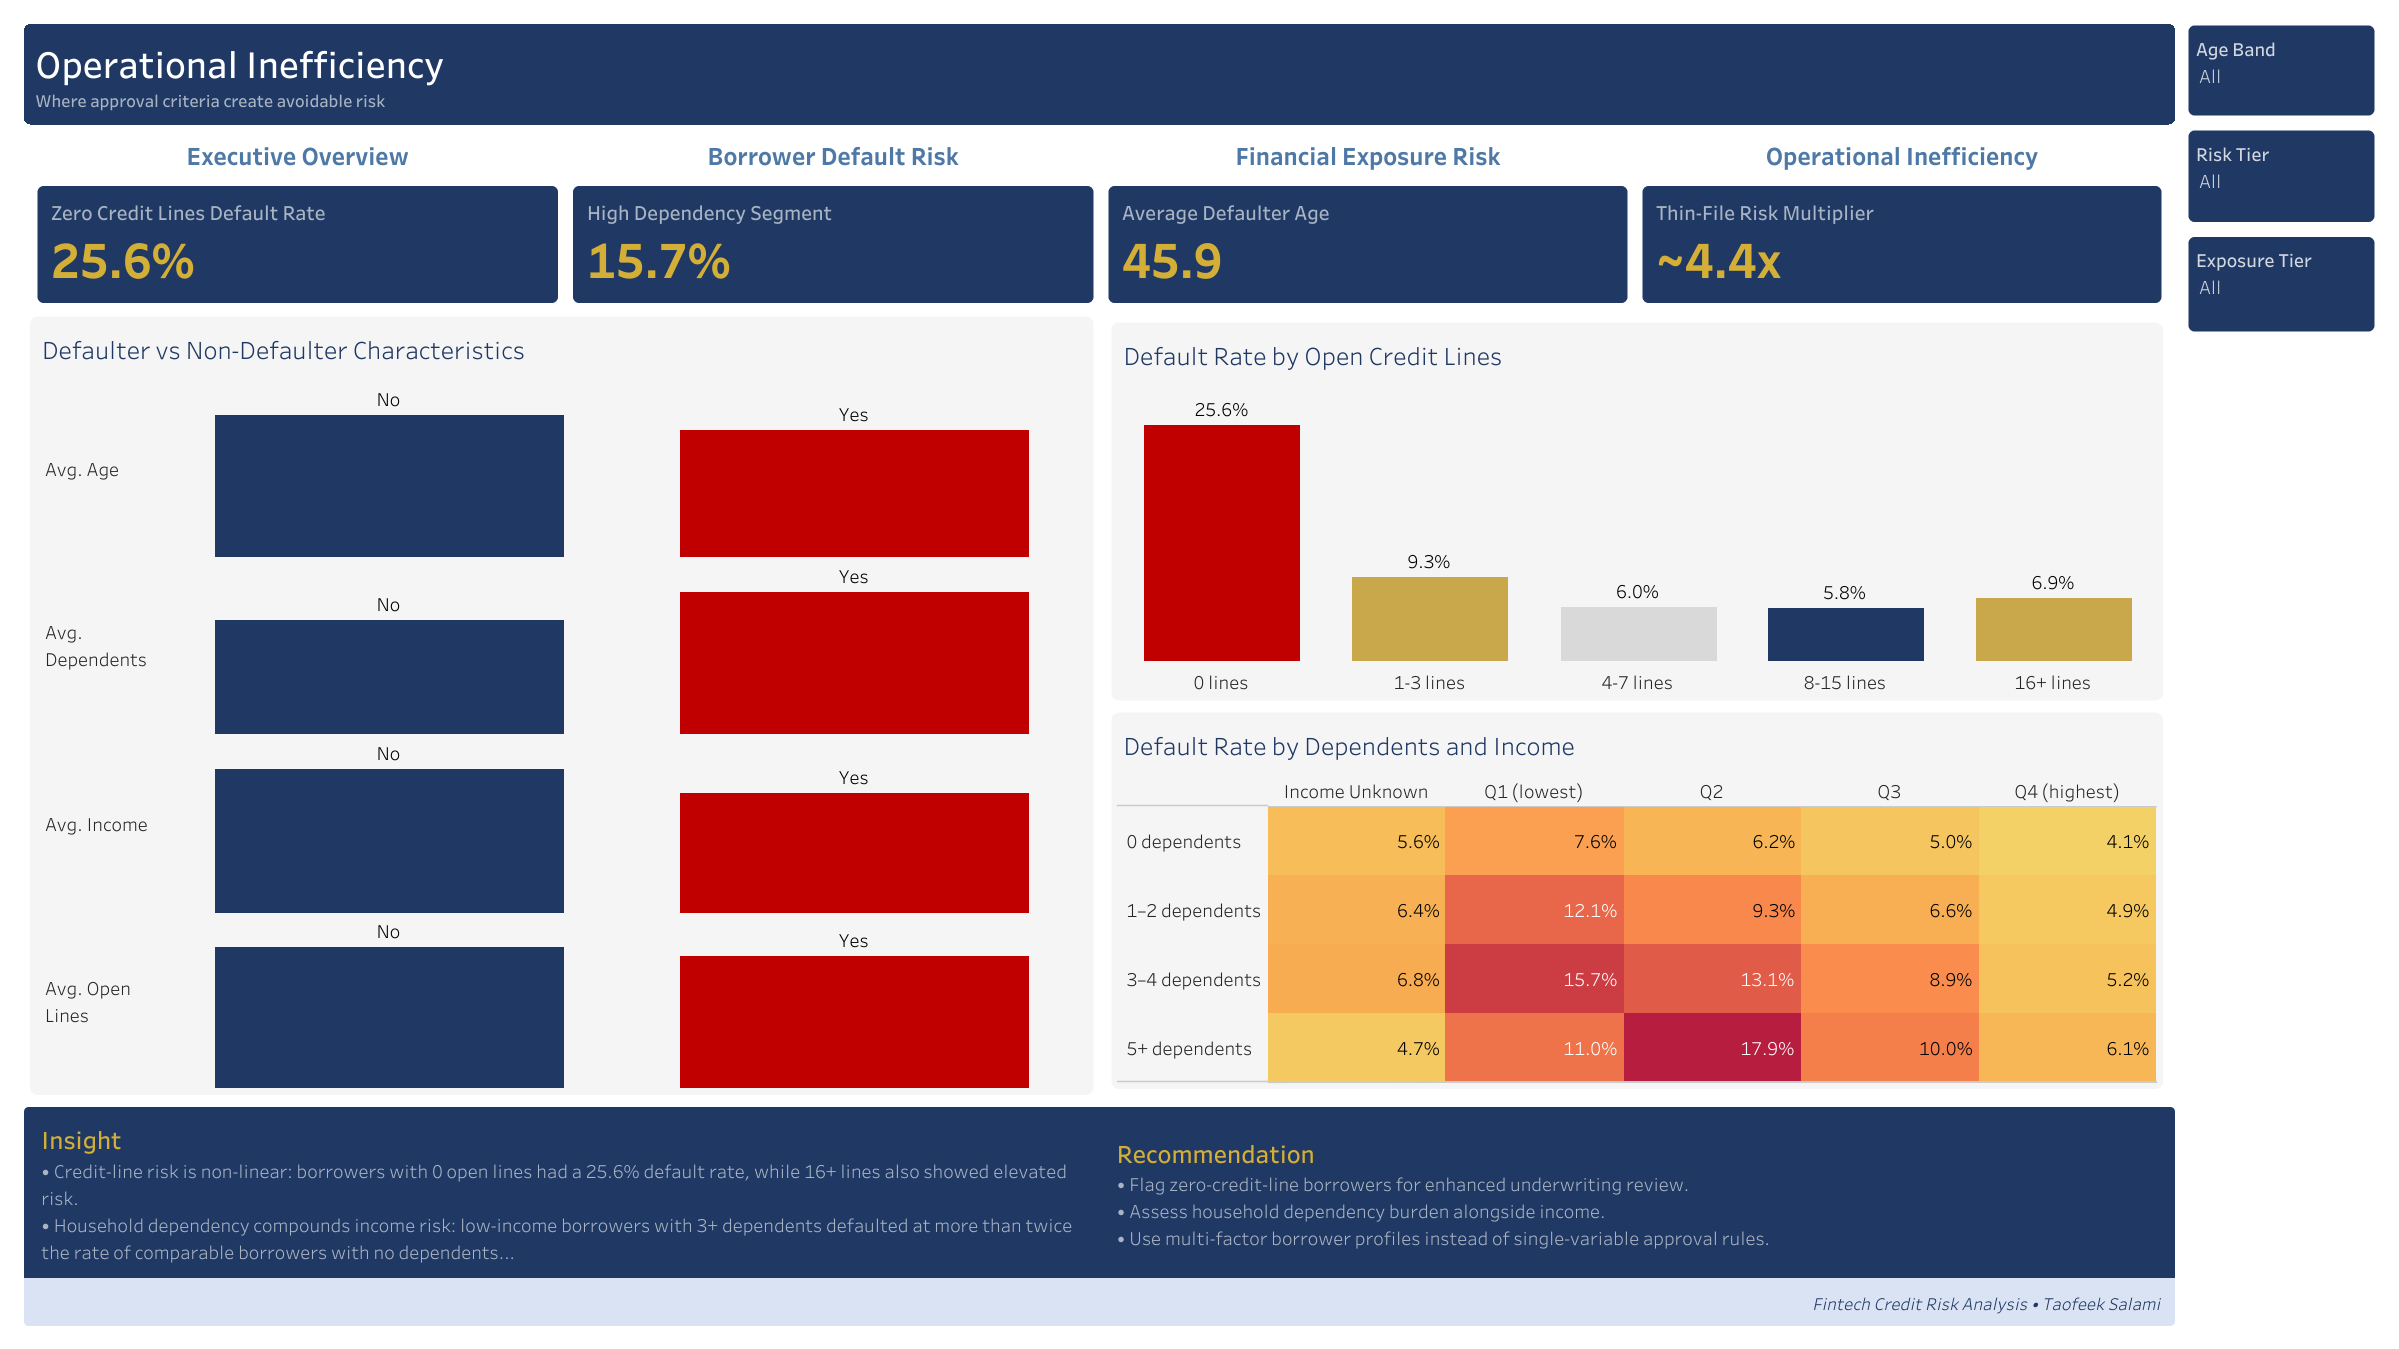

What the dashboard file says about the page in this screenshot:
{"tool":"tableau","page":{"name":"DB04 - Operational Inefficiency","canvas":[1600,900],"ordinal":3},"visuals":[{"type":"filter","title":"13 - KPI - Zero Credit Line Default Rate","param":"[federated.0l6wklt0usoimd1as64wt0mplcod].[none:age_band:nk]","box":[1454,12,134,70]},{"type":"text","box":[16,16,1434,67]},{"type":"filter","title":"13 - KPI - Zero Credit Line Default Rate","param":"[federated.0l6wklt0usoimd1as64wt0mplcod].[none:risk_tier:nk]","box":[1454,82,134,71]},{"type":"dashboard-object","box":[20,87,357,32]},{"type":"dashboard-object","box":[377,87,357,32]},{"type":"dashboard-object","box":[734,87,356,32]},{"type":"dashboard-object","box":[1090,87,356,32]},{"type":"worksheet","title":"13 - KPI - Zero Credit Line Default Rate","mark":"Automatic","box":[20,119,357,88]},{"type":"worksheet","title":"14 - KPI - High Dependency Segment","mark":"Automatic","box":[377,119,357,88]},{"type":"worksheet","title":"15 - KPI - Average Default Age","mark":"Automatic","box":[734,119,356,88]},{"type":"worksheet","title":"16 - KPI - Thin-File Risk Multiplier","mark":"Automatic","box":[1090,119,356,88]},{"type":"filter","title":"13 - KPI - Zero Credit Line Default Rate","param":"[federated.0l6wklt0usoimd1as64wt0mplcod].[none:exposure_tier:nk]","box":[1454,153,134,73]},{"type":"worksheet","title":"33 - Chart - Characteristics of Delinquency","mark":"Bar","cols":["SeriousDlqin2yrs"],"box":[16,207,717,527]},{"type":"worksheet","title":"32 - Chart - Credit Lines vs Delinquency Rate","mark":"Bar","rows":["delinquency_rate_pct"],"cols":["credit_lines_band"],"box":[737,211,709,260]},{"type":"worksheet","title":"31 - Chart - Dependents vs Income Default Rate","mark":"Square","rows":["dependents_band"],"cols":["income_quartile"],"box":[737,471,709,259]},{"type":"text","box":[16,738,717,114]},{"type":"text","box":[733,738,717,114]},{"type":"text","box":[16,852,1434,32]}]}

Visuals, with their boxes in screenshot pixels (x1, y1, x2, y2), scaled from the page's 1600x900 canvas onto the 2399x1349 screenshot:
"13 - KPI - Zero Credit Line Default Rate" filter: <bbox>2180, 18, 2381, 123</bbox>
text: <bbox>24, 24, 2174, 124</bbox>
"13 - KPI - Zero Credit Line Default Rate" filter: <bbox>2180, 123, 2381, 229</bbox>
dashboard-object: <bbox>30, 130, 565, 178</bbox>
dashboard-object: <bbox>565, 130, 1101, 178</bbox>
dashboard-object: <bbox>1101, 130, 1634, 178</bbox>
dashboard-object: <bbox>1634, 130, 2168, 178</bbox>
"13 - KPI - Zero Credit Line Default Rate" worksheet: <bbox>30, 178, 565, 310</bbox>
"14 - KPI - High Dependency Segment" worksheet: <bbox>565, 178, 1101, 310</bbox>
"15 - KPI - Average Default Age" worksheet: <bbox>1101, 178, 1634, 310</bbox>
"16 - KPI - Thin-File Risk Multiplier" worksheet: <bbox>1634, 178, 2168, 310</bbox>
"13 - KPI - Zero Credit Line Default Rate" filter: <bbox>2180, 229, 2381, 339</bbox>
"33 - Chart - Characteristics of Delinquency" worksheet (Bar marks): <bbox>24, 310, 1099, 1100</bbox>
"32 - Chart - Credit Lines vs Delinquency Rate" worksheet (Bar marks): <bbox>1105, 316, 2168, 706</bbox>
"31 - Chart - Dependents vs Income Default Rate" worksheet (Square marks): <bbox>1105, 706, 2168, 1094</bbox>
text: <bbox>24, 1106, 1099, 1277</bbox>
text: <bbox>1099, 1106, 2174, 1277</bbox>
text: <bbox>24, 1277, 2174, 1325</bbox>
